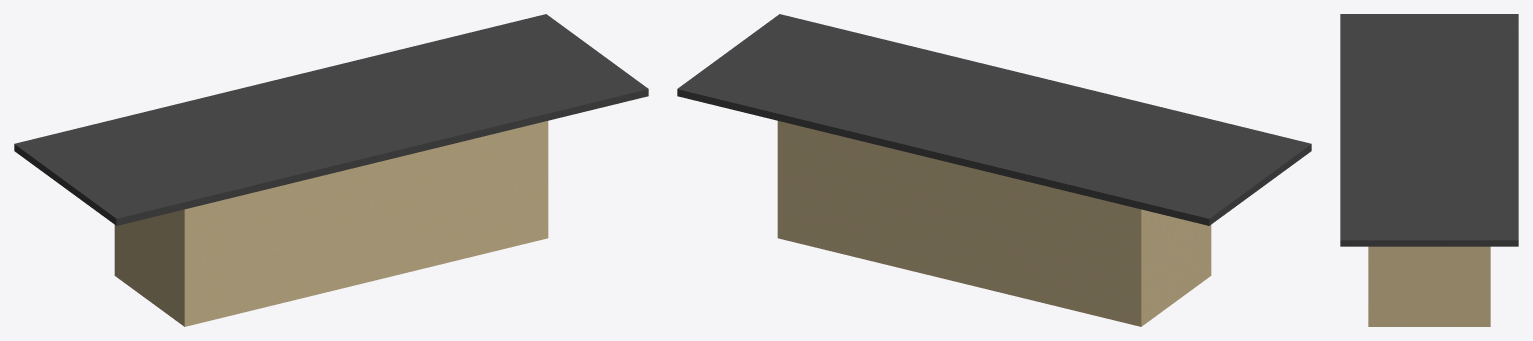
The model's file is Sciences_Table.fbx.
3 views of the same model, side by side, from view 1: azimuth 30°, elevation 25°; view 2: azimuth 150°, elevation 25°; view 3: azimuth 270°, elevation 25° (orthographic). The views are drawn at different scales.
Visible parts, largest first — view 1: Sciences_Table; view 2: Sciences_Table; view 3: Sciences_Table.
Boxes of the visible parts, x1=… form: Sciences_Table: x1=14, y1=14, x2=648, y2=326; Sciences_Table: x1=677, y1=14, x2=1311, y2=326; Sciences_Table: x1=1340, y1=14, x2=1518, y2=326.
Bounding box in the file's own units: 1183 × 298 × 395.
